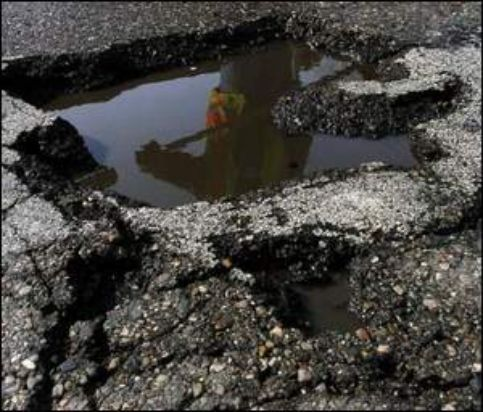pothole: (3, 11, 458, 213), (204, 220, 385, 339)
